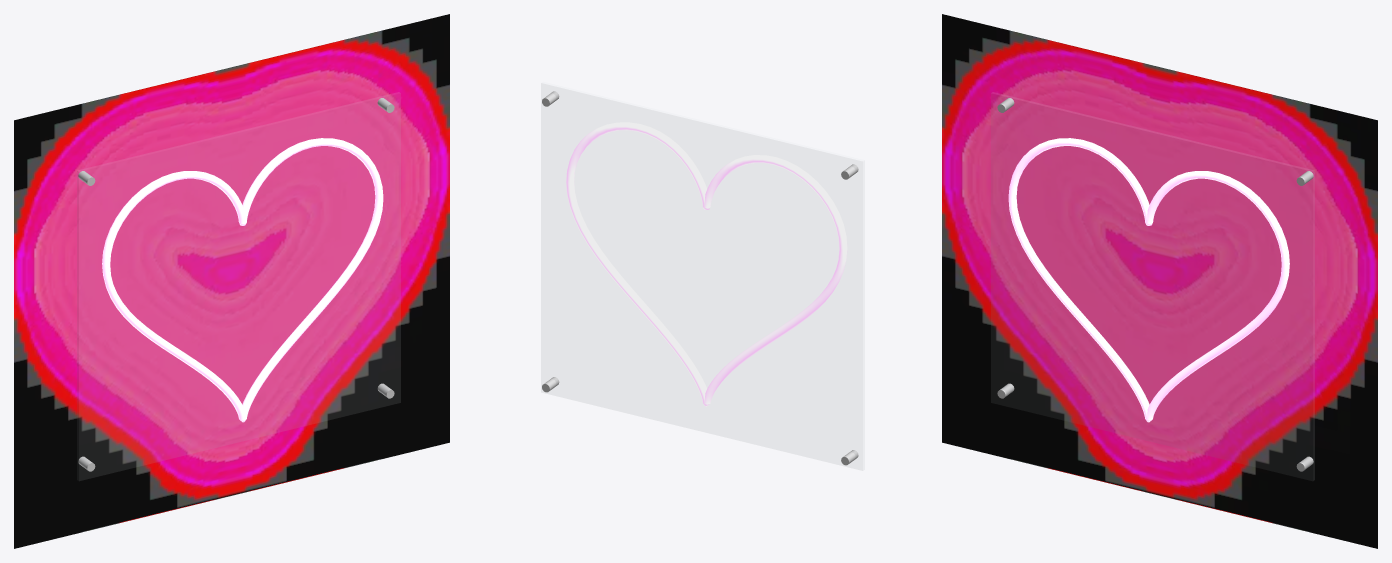
Rendered from obj-neon-heart-pink.glb.
The picture shows the model from 3 angles, left to right: view 1: azimuth 30°, elevation 25°; view 2: azimuth 150°, elevation 25°; view 3: azimuth 330°, elevation 25°; orthographic projection.
Visible parts, largest first — view 1: obj-neon-heart-pink; view 2: obj-neon-heart-pink; view 3: obj-neon-heart-pink.
Boxes of the visible parts, x1,y1,x2,y2 form: obj-neon-heart-pink: (14,14,449,548); obj-neon-heart-pink: (542,91,858,465); obj-neon-heart-pink: (942,14,1377,548).
Size of the model in its own units: 0.536 by 0.5037 by 0.0285.
Materials: 4 (1 with a texture image).
